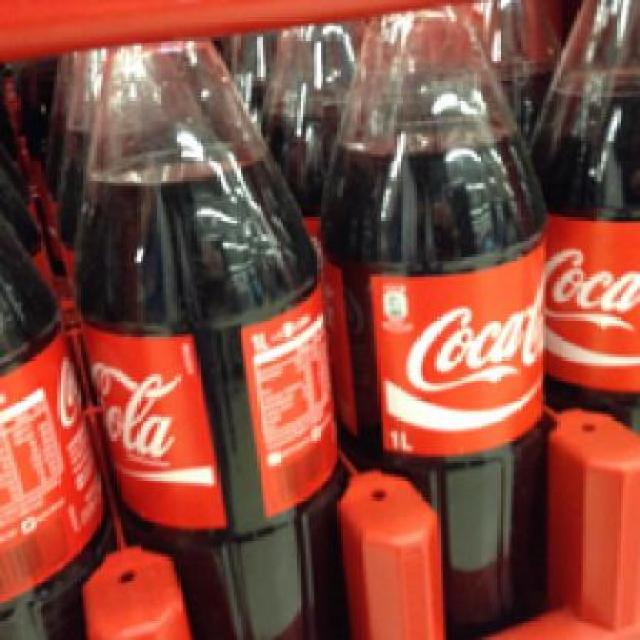Soda: (71, 40, 340, 637), (317, 5, 546, 638)
